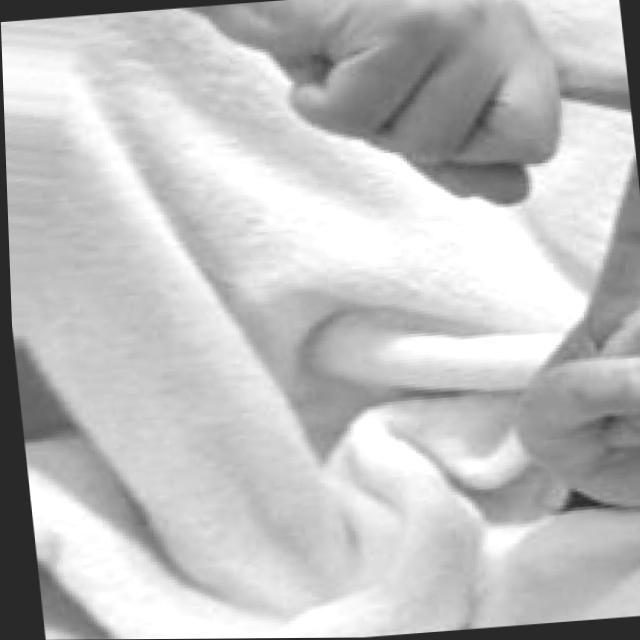T: (256, 0, 640, 536)
